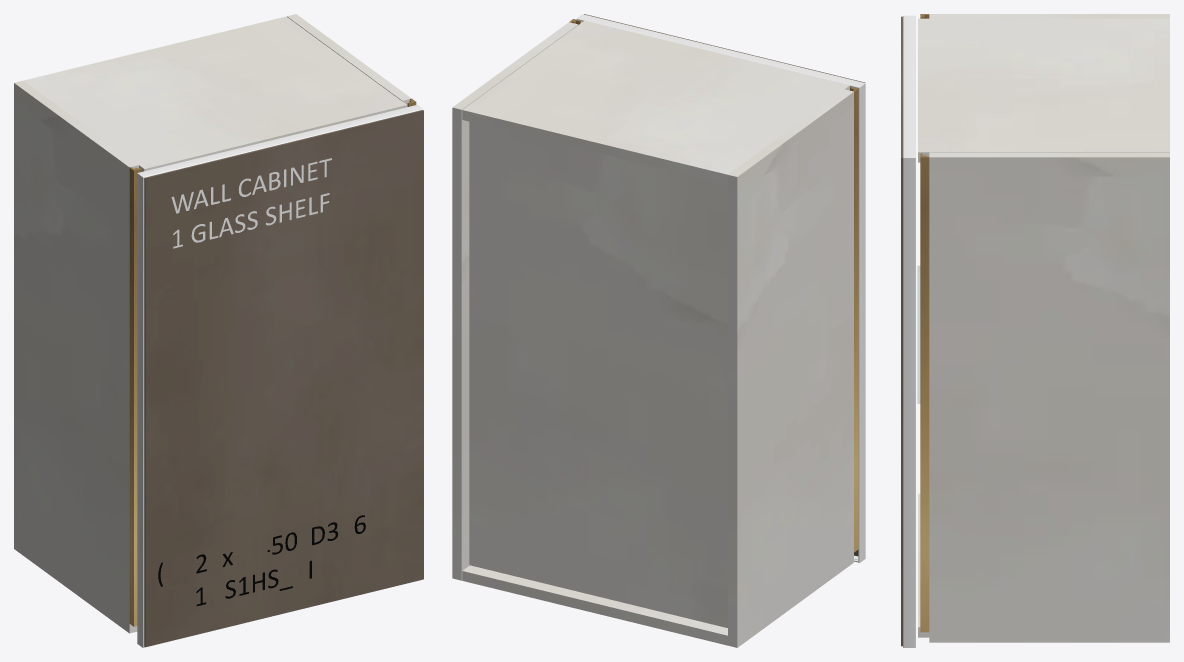
3 renders of one model, left to right at view 1: azimuth 30°, elevation 25°; view 2: azimuth 150°, elevation 25°; view 3: azimuth 270°, elevation 25°, orthographic. The views are drawn at different scales.
Size of what is drawn, in the model's own units: 0.45 by 0.7185 by 0.366.
Materials: 7 (3 with a texture image).
